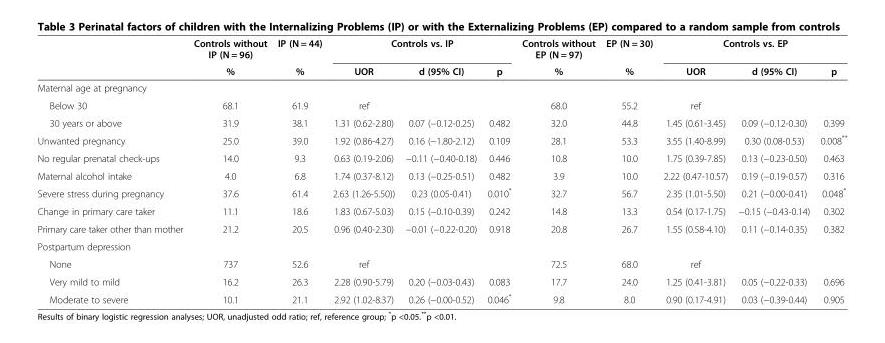table: (36, 37, 846, 304)
table column: (36, 37, 187, 304), (187, 37, 271, 304), (515, 37, 599, 304), (399, 37, 481, 304), (732, 37, 814, 304), (657, 37, 732, 304), (326, 37, 399, 304), (599, 37, 657, 304), (271, 37, 326, 304), (481, 37, 515, 304), (814, 37, 846, 304)
table column header: (36, 37, 846, 79)
table projected row header: (36, 79, 846, 96), (36, 237, 846, 254)
table row: (36, 37, 846, 62), (36, 130, 846, 148), (36, 148, 846, 166), (36, 183, 846, 201), (36, 201, 846, 219), (36, 219, 846, 237), (36, 254, 846, 272), (36, 62, 846, 79), (36, 79, 846, 96), (36, 96, 846, 113), (36, 113, 846, 130), (36, 166, 846, 183), (36, 237, 846, 254), (36, 272, 846, 289), (36, 289, 846, 304)
table spanning cell: (326, 37, 515, 62), (657, 37, 846, 62), (187, 37, 271, 79), (515, 37, 599, 79), (599, 37, 657, 79), (271, 37, 326, 79)
